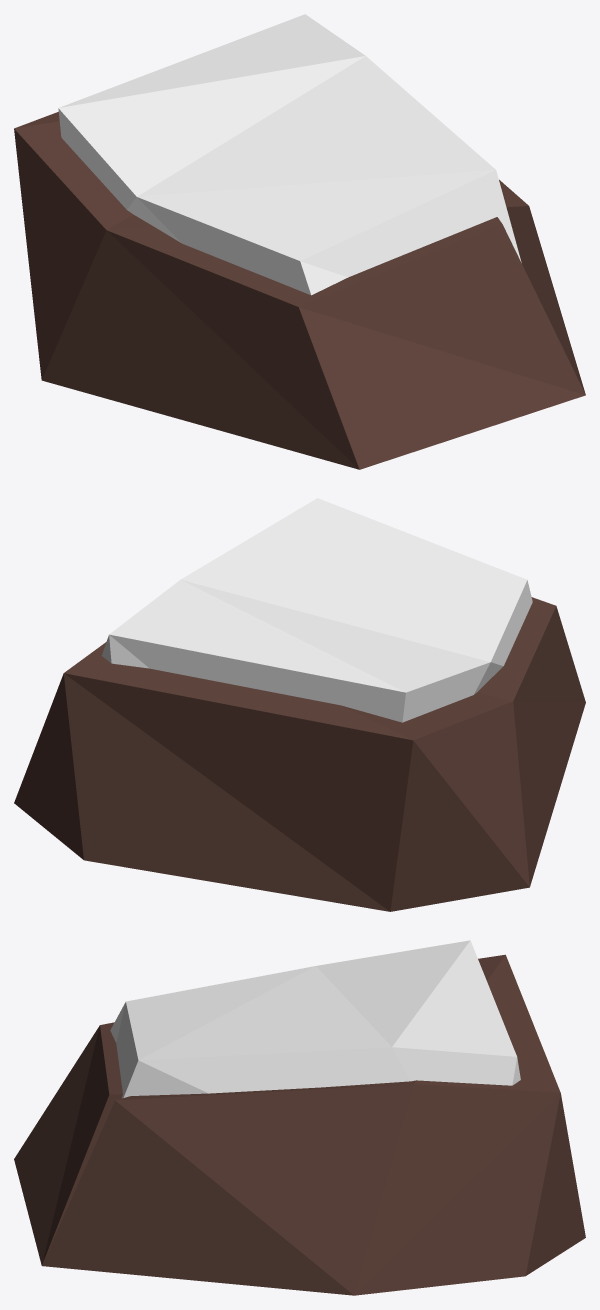
File: snow_rock_008.fbx
3 views of the same model, one above another, from view 1: azimuth 30°, elevation 25°; view 2: azimuth 150°, elevation 25°; view 3: azimuth 270°, elevation 25° (orthographic). The views are drawn at different scales.
Visible parts, largest first — view 1: snow_rock_008; view 2: snow_rock_008; view 3: snow_rock_008.
Part boxes in pixels (x1=…): snow_rock_008: x1=14, y1=14, x2=585, y2=469; snow_rock_008: x1=14, y1=498, x2=585, y2=911; snow_rock_008: x1=14, y1=940, x2=585, y2=1295.
Size of the model in its own units: 159 by 188 by 80.36.
